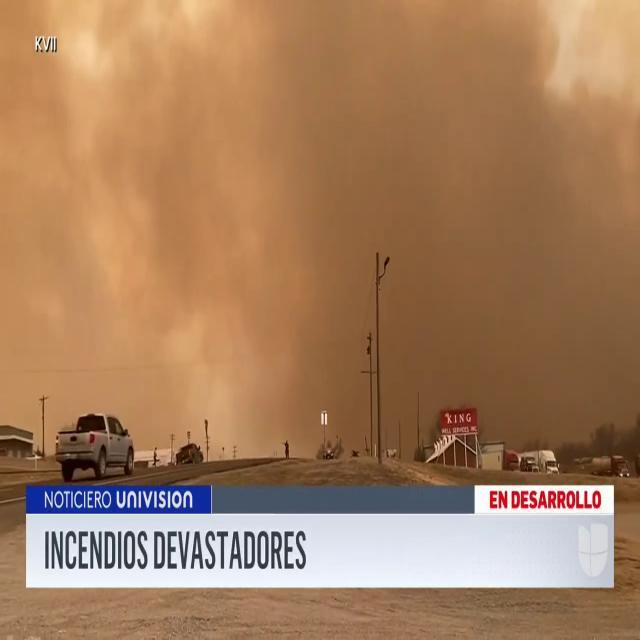Smoke: (7, 1, 638, 432)
